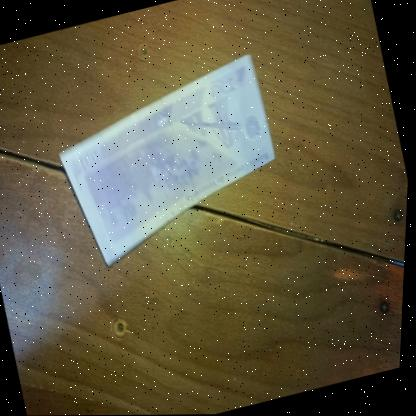two_hundred-back-vef: (43, 53, 296, 274)
